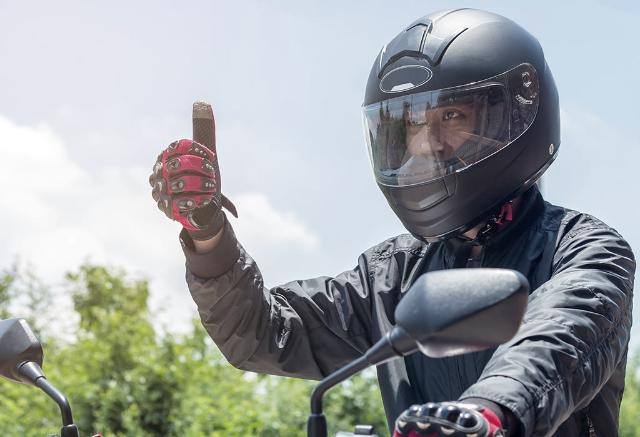helm: (360, 8, 567, 247)
